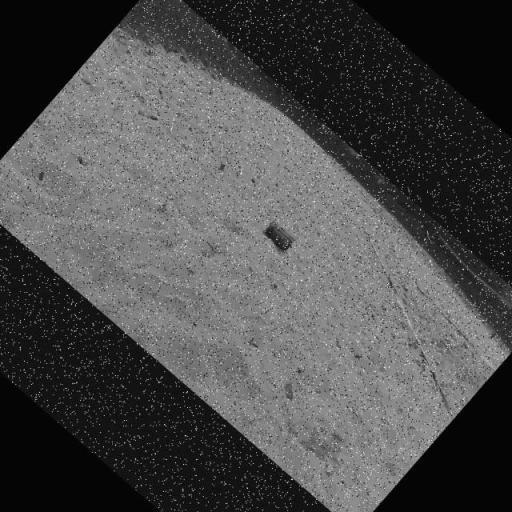bottle: (262, 222, 295, 252)
